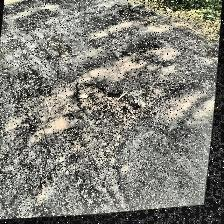pothole: (72, 74, 152, 128)
